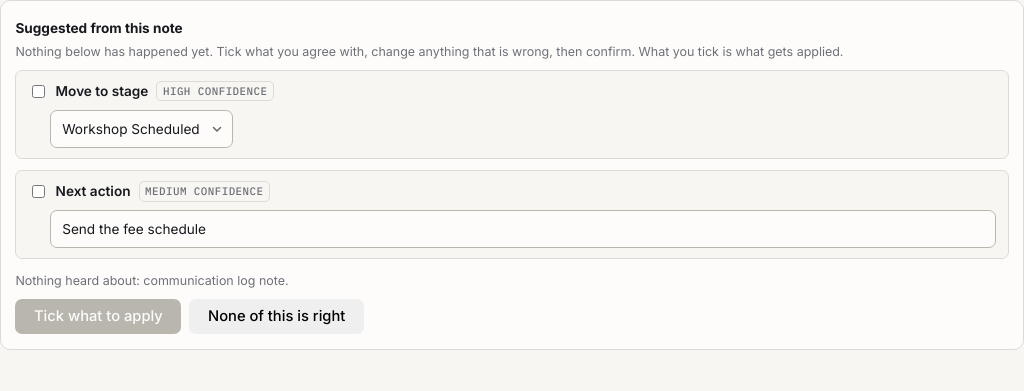
it: the approval has to name what it approves › keeps the original suggestion on screen once it is corrected
Check: the text "Suggested:" is not shown
Replace the text in the field showing "Send the fee schedule" with "Something else entirely" at coordinates (523, 229), box [50,210,996,248]
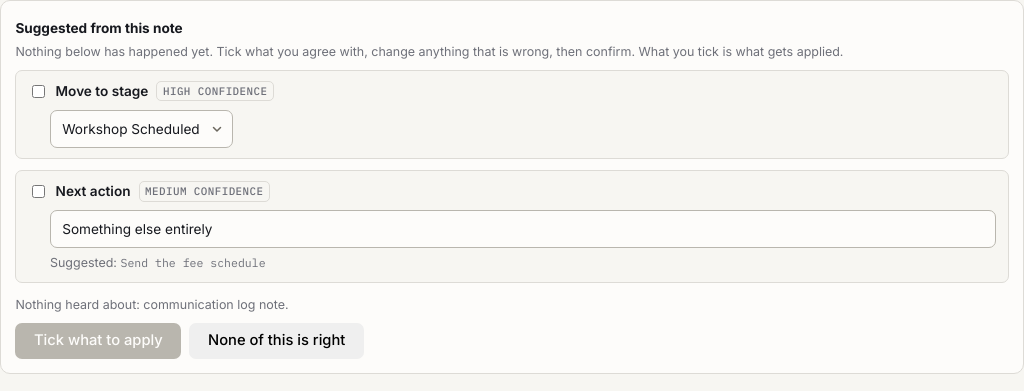
Check: the text "Suggested: Send the fee schedule" is shown, box [50,255,266,270]
Check: the text "Send the fee schedule" is shown, box [120,255,266,270]
